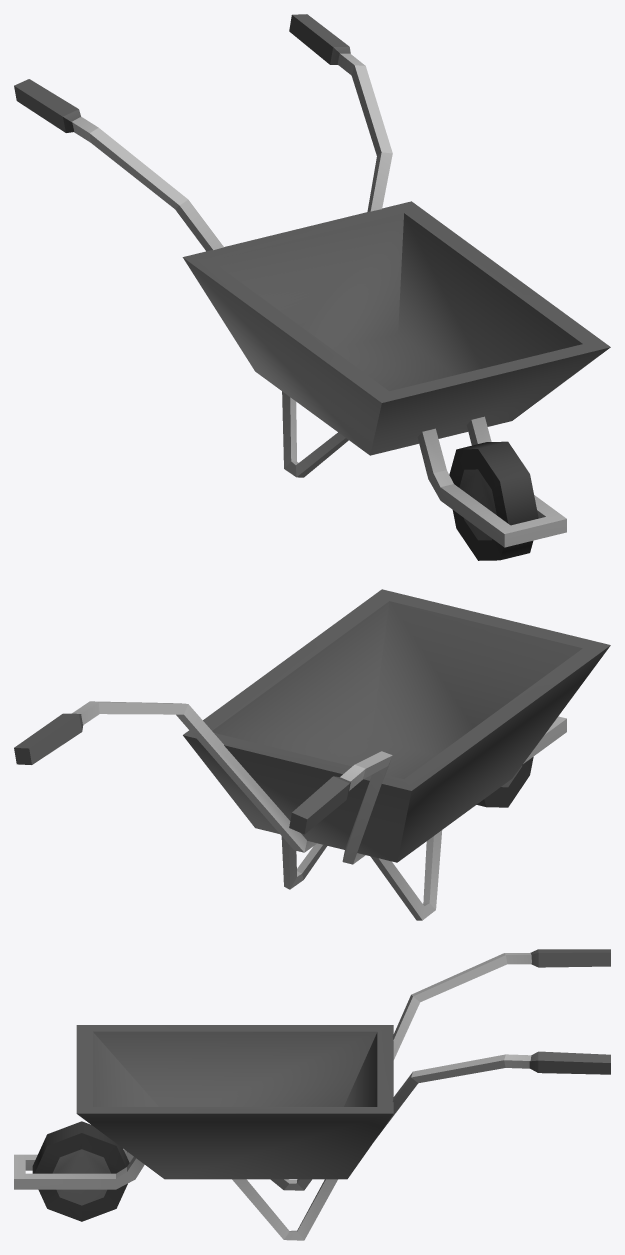
The model's file is cart_001.glb.
The picture shows the model from 3 angles, top to bottom: view 1: azimuth 30°, elevation 25°; view 2: azimuth 150°, elevation 25°; view 3: azimuth 270°, elevation 25°; orthographic projection. The views are drawn at different scales.
Parts seen in each view (by area): view 1: cart_001; view 2: cart_001; view 3: cart_001.
Part boxes in pixels (<box>): cart_001: <box>14,14,610,560</box>; cart_001: <box>14,589,610,920</box>; cart_001: <box>14,949,610,1240</box>.
Bounding box in the file's own units: 1.03 × 0.901 × 2.28.
1 material, 1 textured.
